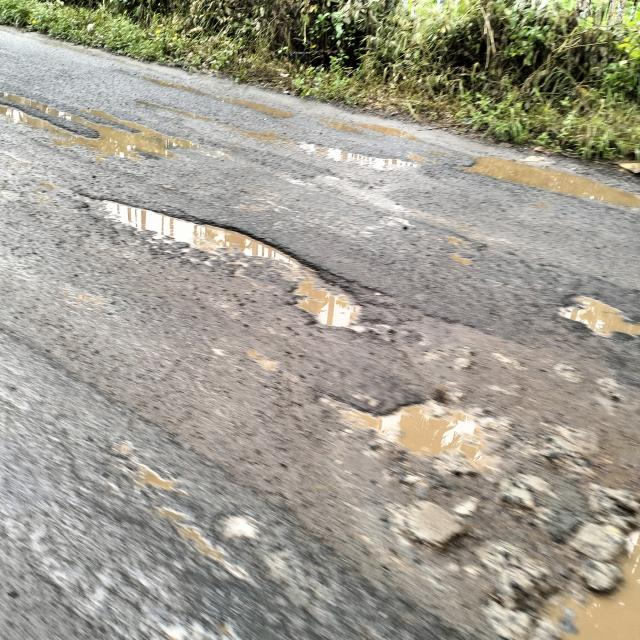pothole: (315, 373, 640, 640), (62, 187, 400, 344), (93, 439, 272, 601), (0, 90, 185, 180), (228, 136, 432, 198), (539, 165, 635, 235), (550, 281, 640, 345), (455, 148, 540, 207), (444, 228, 513, 279), (114, 79, 213, 103), (228, 98, 300, 129)
